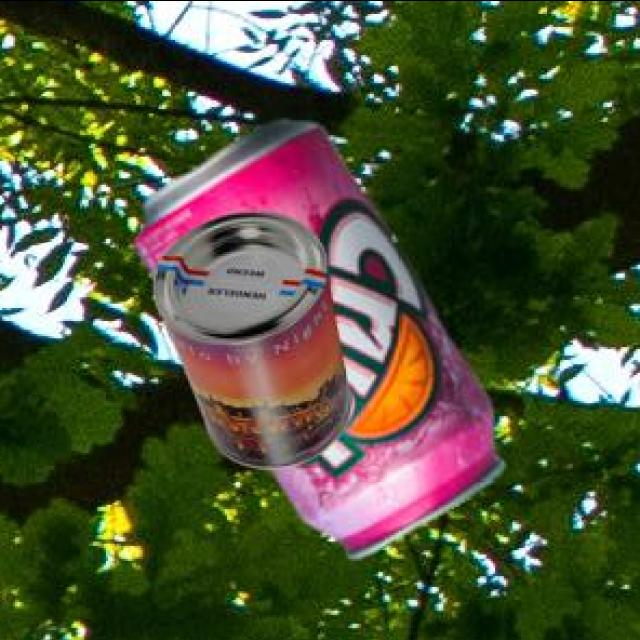logam: (137, 116, 507, 555), (157, 206, 354, 464)
